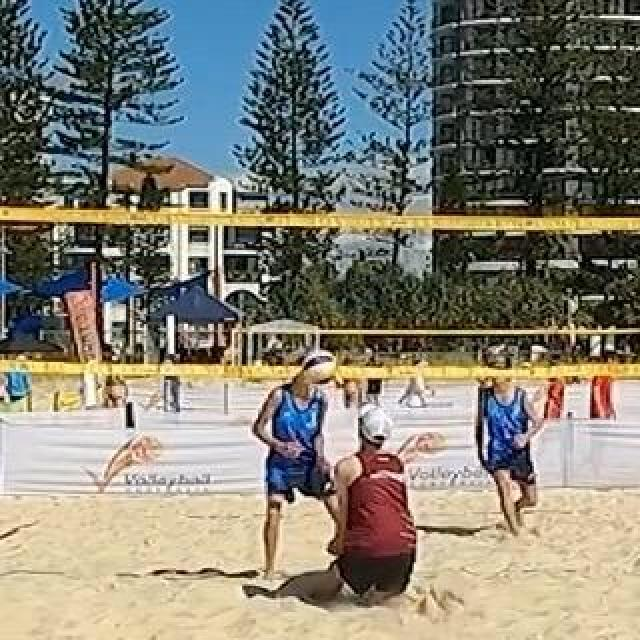volleyball: (302, 350, 338, 384)
